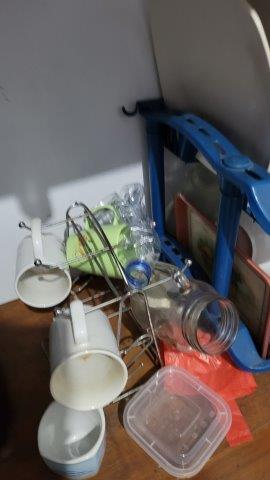botolplastik: (105, 186, 167, 289)
